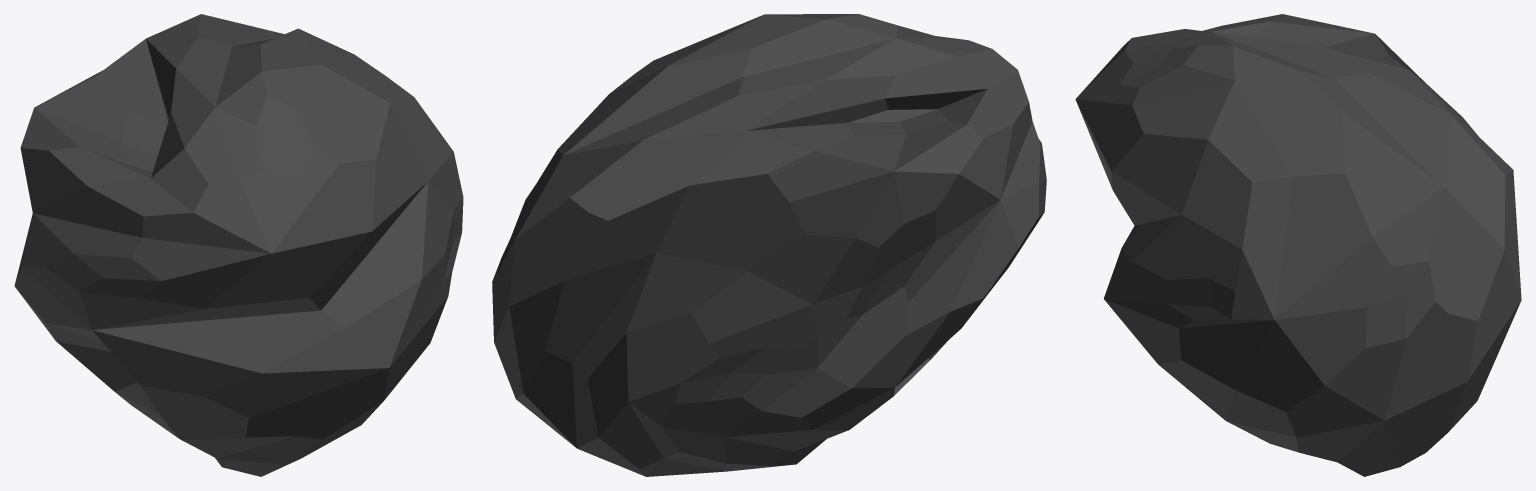
File: Asteroid (5).glb
3 renders of one model, left to right at view 1: azimuth 30°, elevation 25°; view 2: azimuth 150°, elevation 25°; view 3: azimuth 270°, elevation 25°, orthographic. The views are drawn at different scales.
Parts seen in each view (by area): view 1: Sphere.022; view 2: Sphere.022; view 3: Sphere.022.
Part boxes in pixels (x1=…): Sphere.022: x1=14, y1=14, x2=463, y2=476; Sphere.022: x1=492, y1=14, x2=1046, y2=476; Sphere.022: x1=1075, y1=14, x2=1521, y2=476.
Bounding box in the file's own units: 13.99 × 12.92 × 13.73.
Materials: 1 (1 with a texture image).
